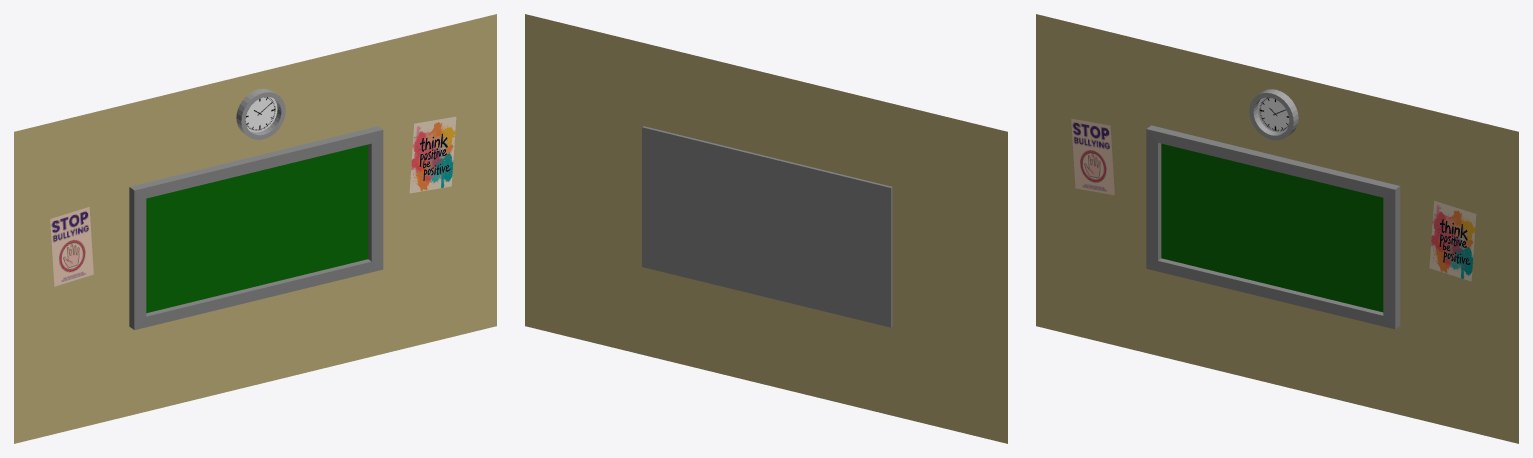
The model's file is ParedFondo.fbx.
3 renders of one model, left to right at view 1: azimuth 30°, elevation 25°; view 2: azimuth 150°, elevation 25°; view 3: azimuth 330°, elevation 25°, orthographic.
Parts seen in each view (by area): view 1: ParedFondo_01, Pizarron, Cartel_02, Cartel_04, Cylinder.005; view 2: ParedFondo_01, Pizarron; view 3: ParedFondo_01, Pizarron, Cartel_02, Cartel_04, Cylinder.005.
Part boxes in pixels (x1=…): ParedFondo_01: x1=14, y1=14, x2=496, y2=443; Pizarron: x1=129, y1=126, x2=383, y2=330; Cartel_02: x1=409, y1=116, x2=456, y2=193; Cartel_04: x1=50, y1=207, x2=93, y2=286; Cylinder.005: x1=236, y1=88, x2=285, y2=139; ParedFondo_01: x1=525, y1=14, x2=1007, y2=443; Pizarron: x1=642, y1=126, x2=892, y2=327; ParedFondo_01: x1=1036, y1=14, x2=1518, y2=443; Pizarron: x1=1146, y1=125, x2=1400, y2=329; Cartel_02: x1=1429, y1=200, x2=1476, y2=281; Cartel_04: x1=1071, y1=118, x2=1114, y2=195; Cylinder.005: x1=1249, y1=89, x2=1298, y2=140.
Bounding box in the file's own units: 1416 × 875 × 43.79.
